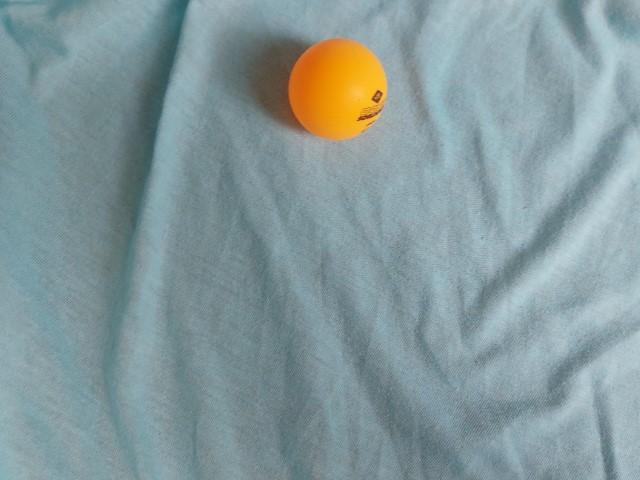oball: (280, 33, 396, 144)
